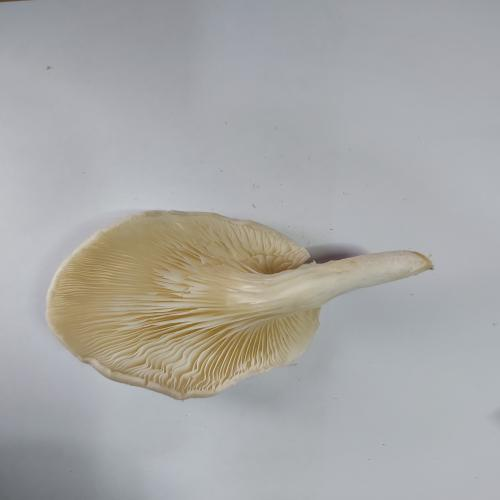Oyster Mushroom: (45, 208, 435, 401)
